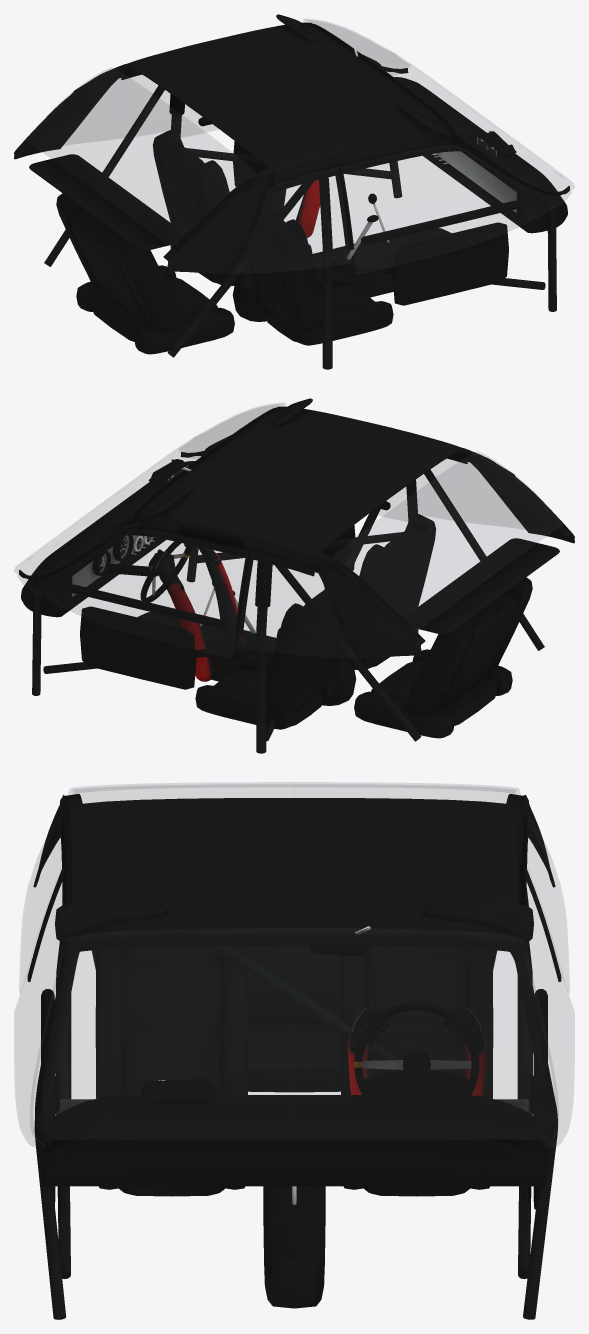
The model's file is kz_kestrel_cockpit_mid.glb.
3 renders of one model, top to bottom at view 1: azimuth 30°, elevation 25°; view 2: azimuth 150°, elevation 25°; view 3: azimuth 270°, elevation 25°, orthographic. The views are drawn at different scales.
Visible parts, largest first — view 1: cockpit_shell, cabin_glass, window_R, hands; view 2: cockpit_shell, cabin_glass, window_L, hands, steering_wheel; view 3: cockpit_shell, cabin_glass, window_L, window_R, hands, steering_wheel.
Boxes of the visible parts, left/top/right/bottom form: cockpit_shell: left=14, top=14, right=569, bottom=369; cabin_glass: left=25, top=19, right=574, bottom=273; window_R: left=341, top=145, right=571, bottom=273; hands: left=264, top=180, right=320, bottom=238; cockpit_shell: left=19, top=398, right=574, bottom=753; cabin_glass: left=14, top=403, right=563, bottom=657; window_L: left=17, top=529, right=247, bottom=657; hands: left=150, top=543, right=243, bottom=681; steering_wheel: left=140, top=541, right=192, bottom=602; cockpit_shell: left=27, top=794, right=561, bottom=1319; cabin_glass: left=19, top=782, right=569, bottom=1144; window_L: left=526, top=868, right=574, bottom=1148; window_R: left=14, top=868, right=62, bottom=1148; hands: left=348, top=1006, right=485, bottom=1096; steering_wheel: left=354, top=1002, right=479, bottom=1095.
Bounding box in the file's own units: 2.1 × 1.11 × 1.65.
4 materials, 2 textured.
